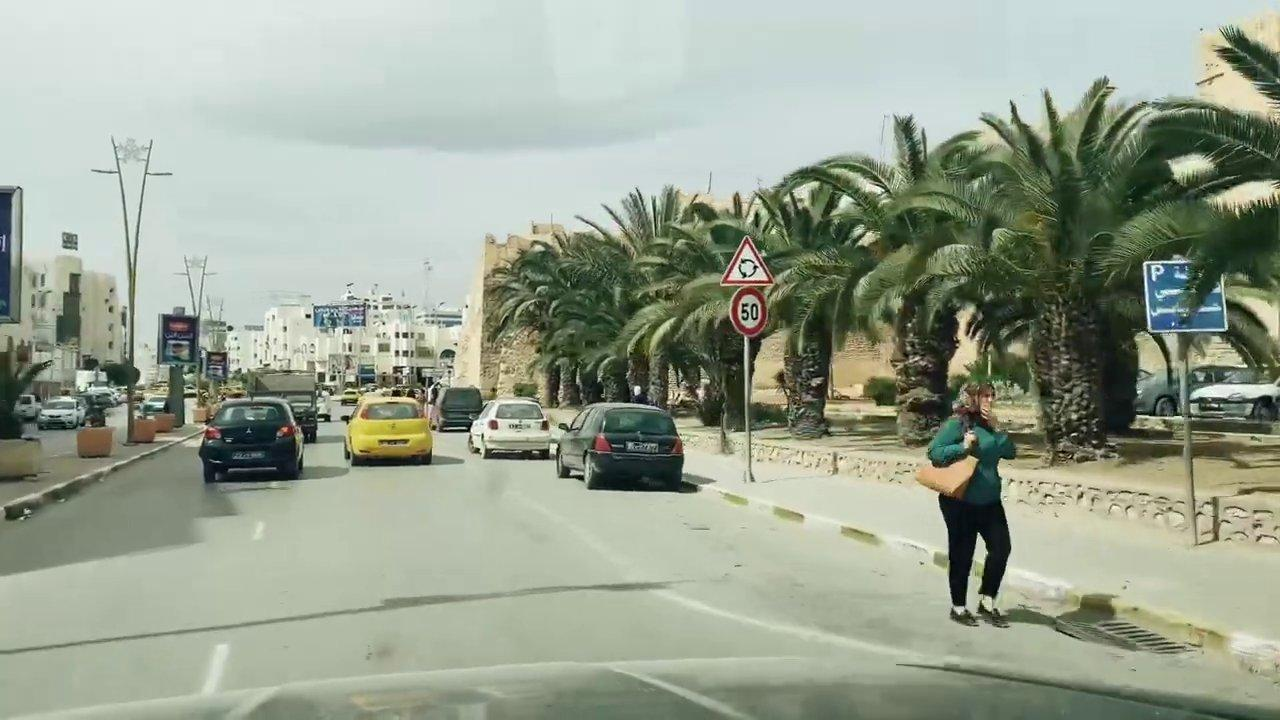roundabout: (720, 234, 775, 286)
speed limit 50: (728, 286, 771, 340)
